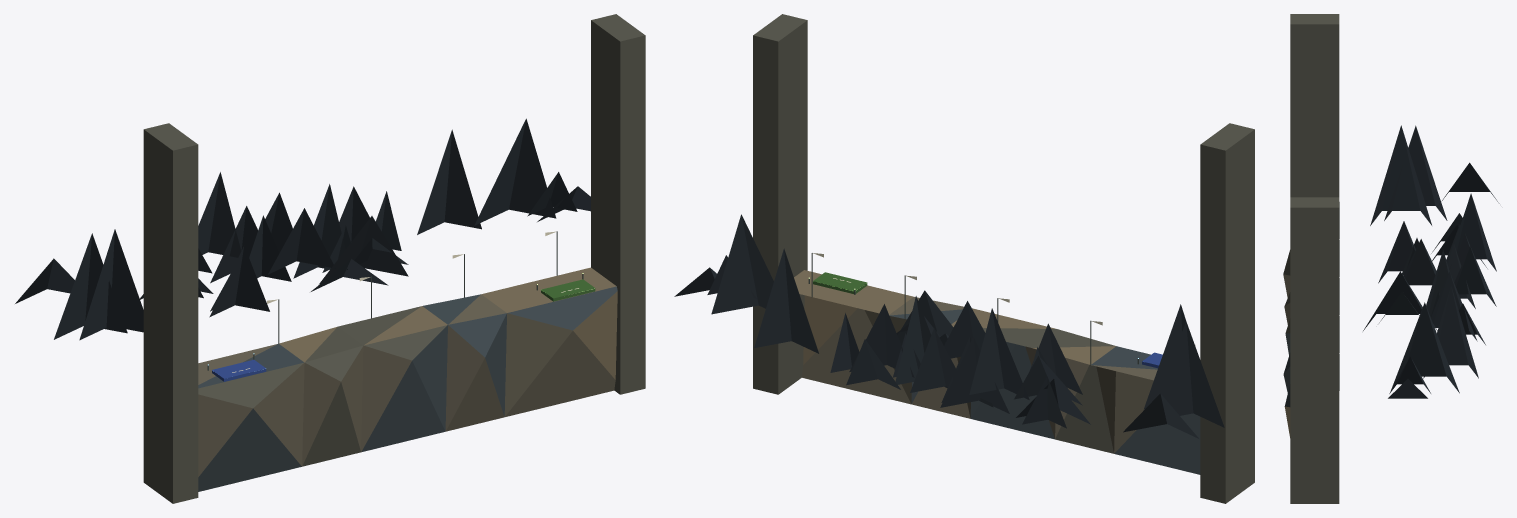
Rendered from 09-wind.glb.
3 renders of one model, left to right at view 1: azimuth 30°, elevation 25°; view 2: azimuth 150°, elevation 25°; view 3: azimuth 270°, elevation 25°, orthographic. The views are drawn at different scales.
Parts seen in each view (by area): view 1: terrain_floor, terrain_wall_-1, terrain_wall_1, background_spire_02, background_spire_07, background_spire_10, background_spire_18, background_spire_17, background_spire_01, background_spire_04, background_spire_20, background_spire_08 (+10 smaller); view 2: terrain_floor, terrain_wall_-1, terrain_wall_1, background_spire_02, background_spire_10, background_spire_18, background_spire_17, background_spire_16, background_spire_24, background_spire_08, background_spire_11, background_spire_21 (+10 smaller); view 3: terrain_wall_1, terrain_wall_-1, background_spire_07, background_spire_02, background_spire_10, background_spire_18, background_spire_17, background_spire_16, background_spire_04, terrain_floor, background_spire_01, background_spire_20 (+9 smaller).
Boxes of the visible parts, x1,y1,x2,y2 form: terrain_floor: (198, 267, 617, 491); terrain_wall_-1: (143, 123, 198, 503); terrain_wall_1: (591, 14, 645, 394); background_spire_02: (474, 118, 556, 225); background_spire_07: (79, 229, 143, 340); background_spire_10: (417, 129, 481, 234); background_spire_18: (54, 233, 127, 339); background_spire_17: (198, 172, 241, 257); background_spire_01: (209, 246, 269, 317); background_spire_04: (268, 208, 335, 274); background_spire_20: (319, 216, 408, 284); background_spire_08: (293, 184, 345, 278); terrain_floor: (794, 270, 1200, 474); terrain_wall_-1: (1200, 123, 1254, 503); terrain_wall_1: (753, 14, 807, 394); background_spire_02: (711, 214, 773, 314); background_spire_10: (754, 248, 818, 353); background_spire_18: (1160, 321, 1224, 427); background_spire_17: (969, 308, 1029, 399); background_spire_16: (910, 328, 971, 398); background_spire_24: (940, 336, 1009, 413); background_spire_08: (895, 296, 947, 388); background_spire_11: (849, 304, 914, 377); background_spire_21: (1123, 393, 1198, 438); terrain_wall_1: (1290, 197, 1339, 503); terrain_wall_-1: (1290, 14, 1339, 197); background_spire_07: (1370, 125, 1431, 225); background_spire_02: (1390, 302, 1459, 393); background_spire_10: (1423, 285, 1478, 378); background_spire_18: (1384, 125, 1447, 220); background_spire_17: (1454, 193, 1496, 271); background_spire_16: (1454, 246, 1496, 306); background_spire_04: (1403, 239, 1436, 285); terrain_floor: (1283, 250, 1290, 437); background_spire_01: (1378, 221, 1415, 283); background_spire_20: (1363, 271, 1437, 330).
Size of what is drawn, in the model's own units: 65.21 by 40 by 26.85.
